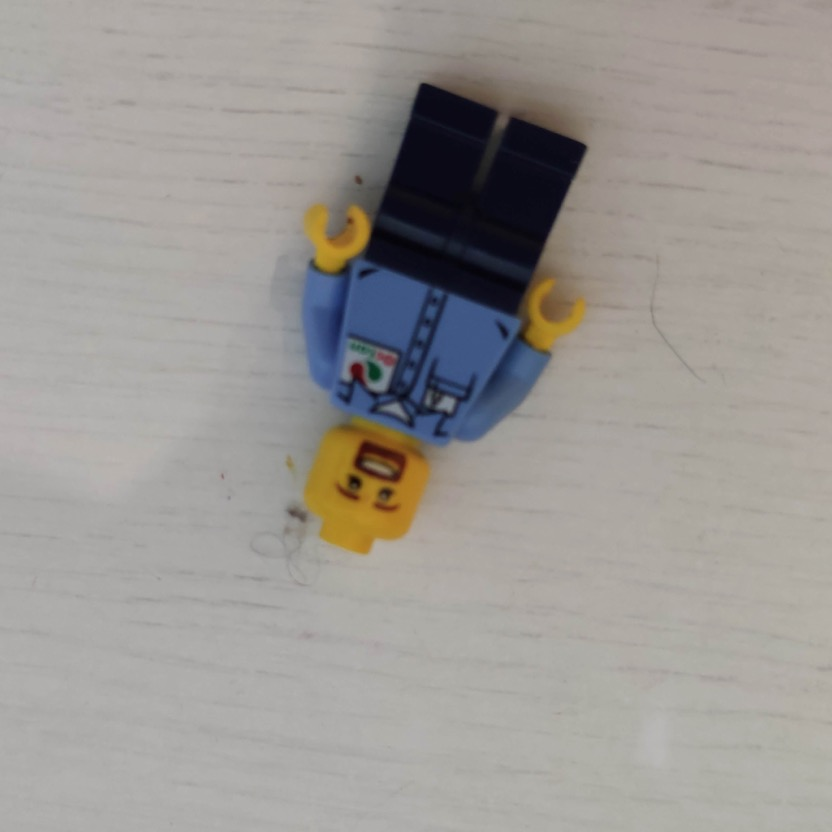lego: (304, 82, 591, 555)
